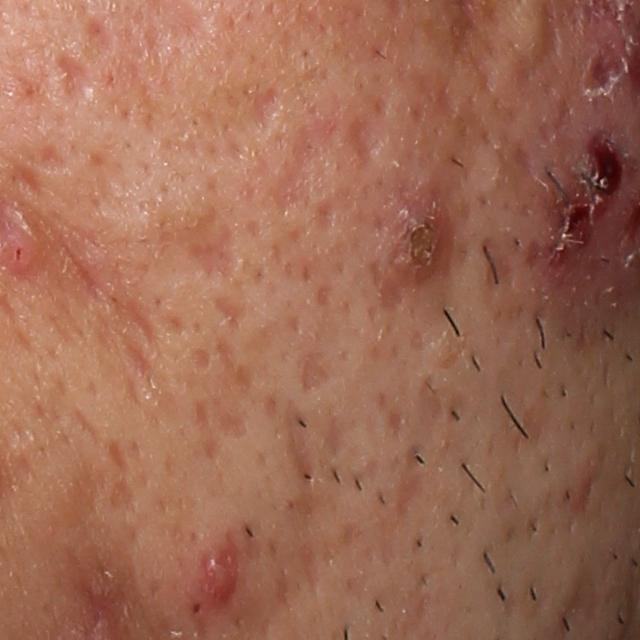atrophic_scar: (269, 110, 350, 218), (187, 220, 240, 283), (285, 397, 316, 489), (250, 73, 288, 141), (58, 50, 97, 116), (342, 114, 387, 168), (215, 338, 258, 394), (117, 295, 164, 345), (201, 395, 249, 439), (114, 331, 157, 377), (82, 8, 117, 61), (297, 349, 335, 394), (213, 293, 251, 335), (110, 475, 145, 515), (35, 143, 68, 175), (106, 440, 134, 477), (186, 344, 211, 375)
papule: (377, 189, 447, 286), (188, 547, 244, 618)
